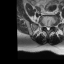CCS_stenosis: (47, 25, 49, 32)
LFS_stenosis: (50, 24, 52, 28)
LLS_normal: (48, 24, 50, 31)
RFS_stenosis: (44, 23, 46, 28)
RLS_normal: (46, 25, 47, 31)
